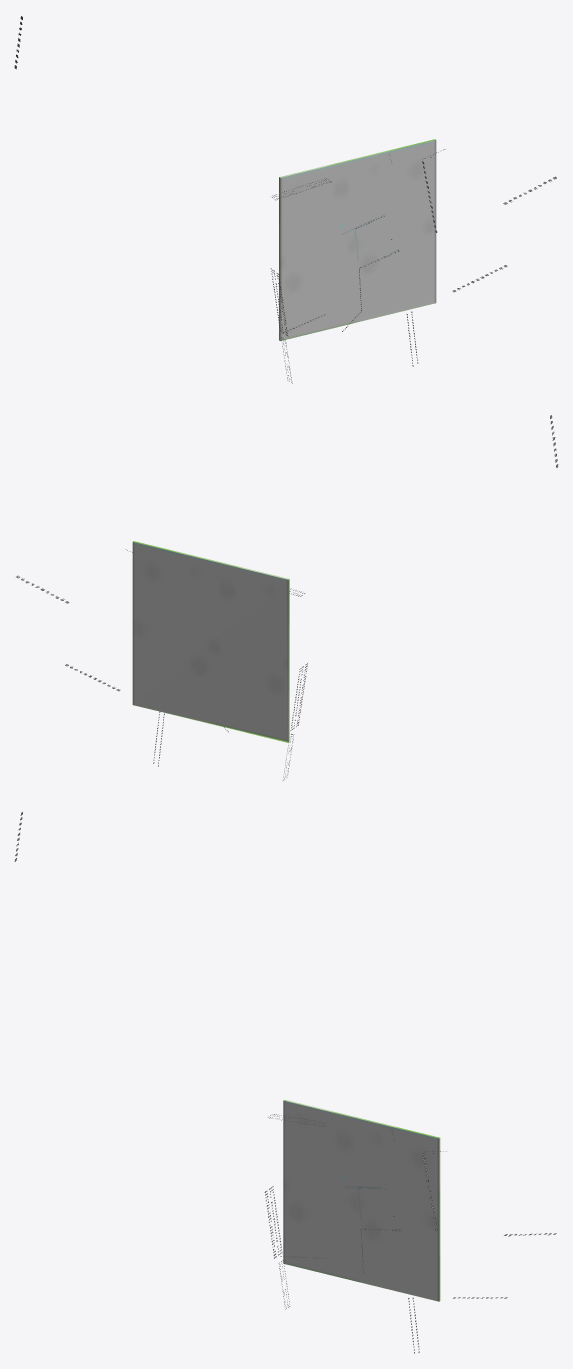
3 views of the same model, one above another, from view 1: azimuth 30°, elevation 25°; view 2: azimuth 150°, elevation 25°; view 3: azimuth 330°, elevation 25° (orthographic).
Parts seen in each view (by area): view 1: POLYGON, FONT; view 2: POLYGON, FONT; view 3: POLYGON, FONT.
Boxes of the visible parts, bbox=[...] form: POLYGON: bbox=[279, 139, 436, 340]; FONT: bbox=[14, 16, 556, 383]; POLYGON: bbox=[132, 541, 289, 742]; FONT: bbox=[16, 415, 558, 780]; POLYGON: bbox=[283, 1099, 440, 1301]; FONT: bbox=[14, 812, 556, 1353].
Size of the model in its own units: 2123 by 1677 by 68.17.
3 materials, 3 textured.
